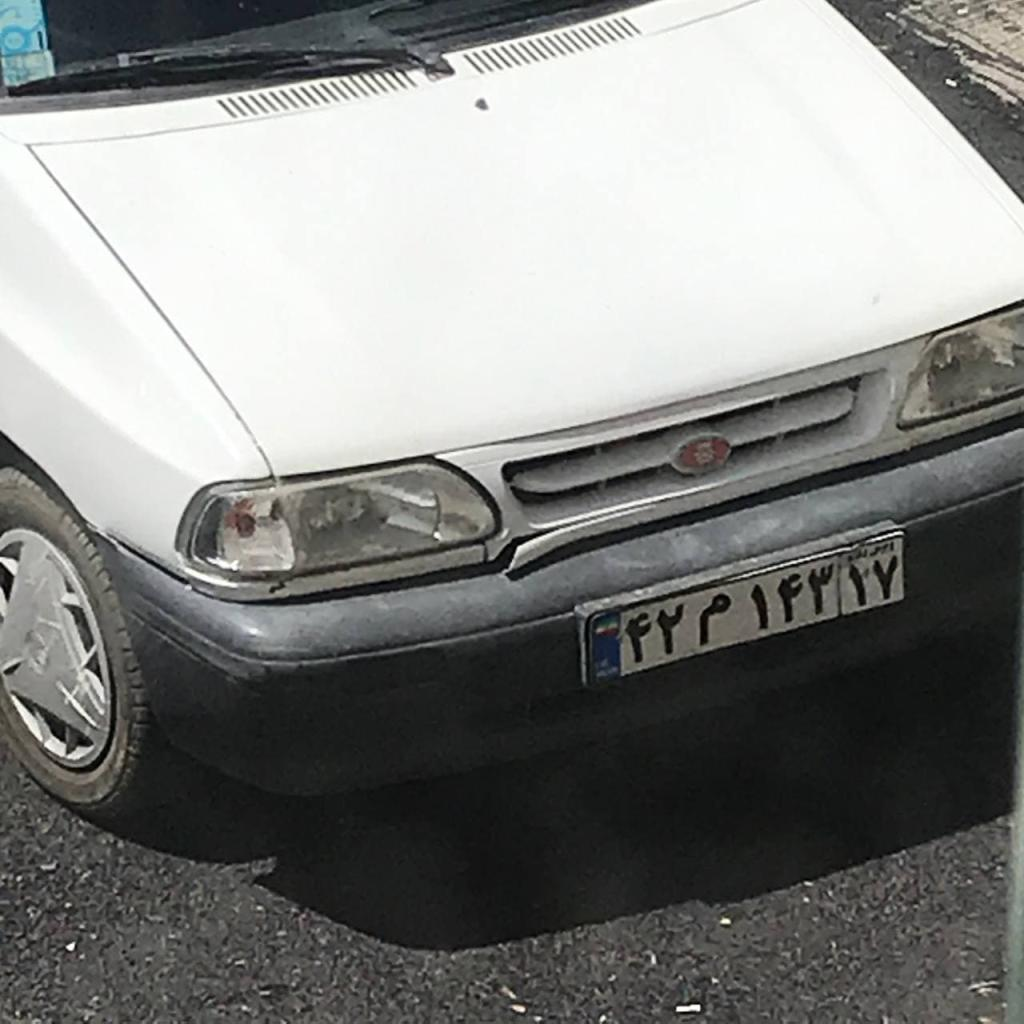Plates: (591, 536, 905, 687)
